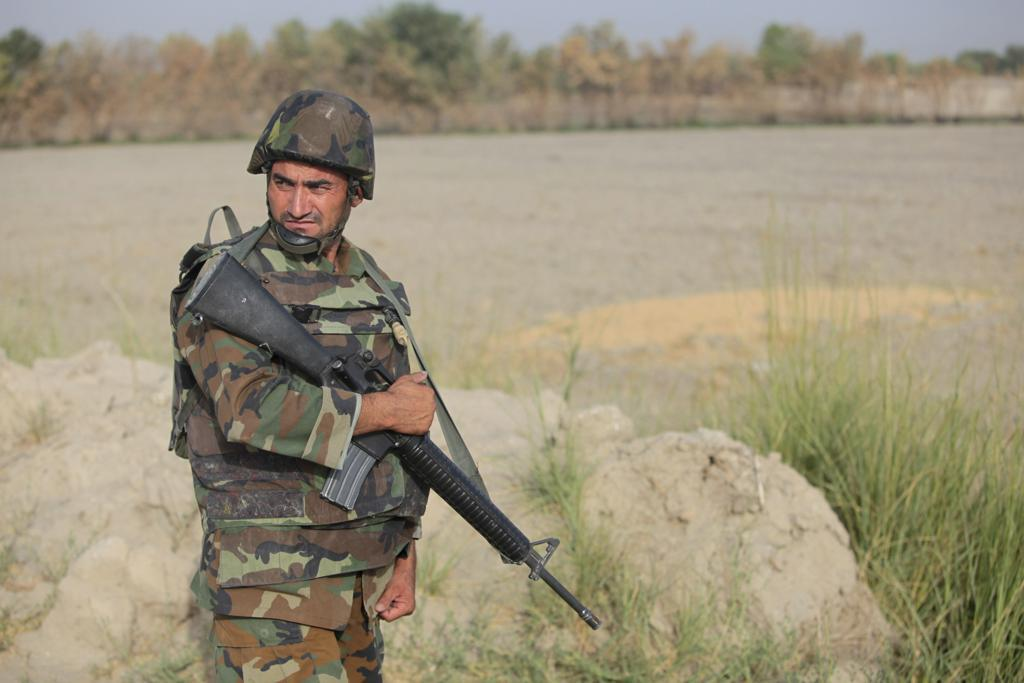face: (267, 137, 353, 257)
